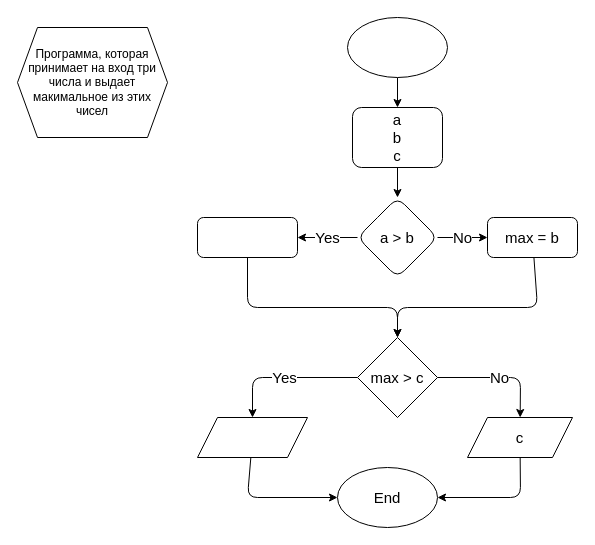
Some shapes in this 595 by 545 pixel diagram are drawn without their labels. Each missing label, with the centre of its shape:
"max" belongs at (x=252, y=437).
"max = a" belongs at (x=247, y=237).
"Start" belongs at (x=397, y=47).
